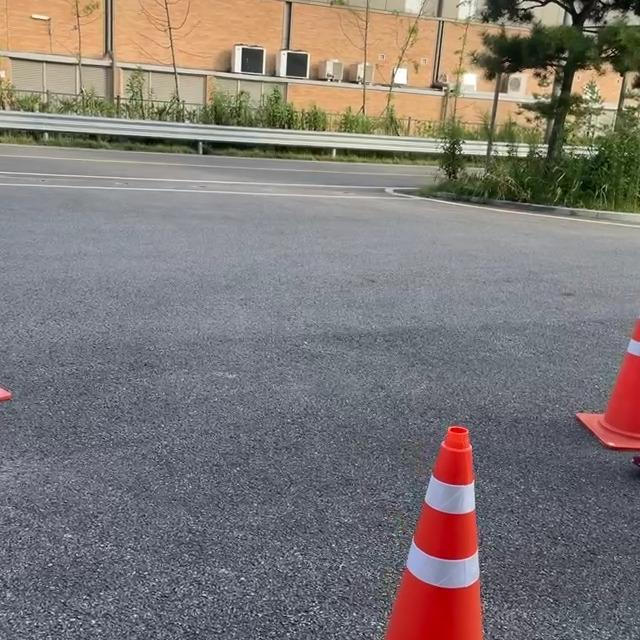fallen_object: (370, 386, 553, 640), (534, 313, 640, 475)
